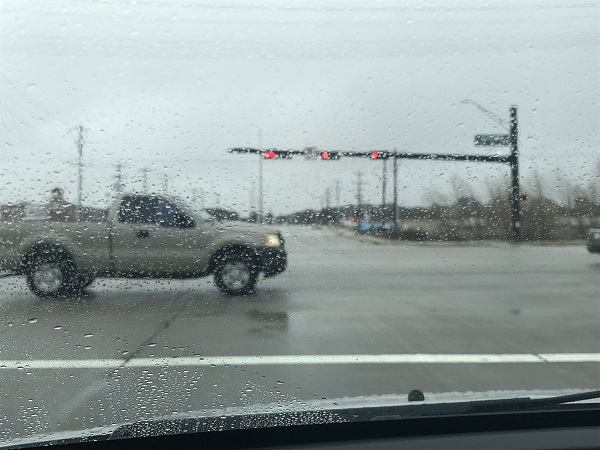truck: (1, 193, 289, 299)
